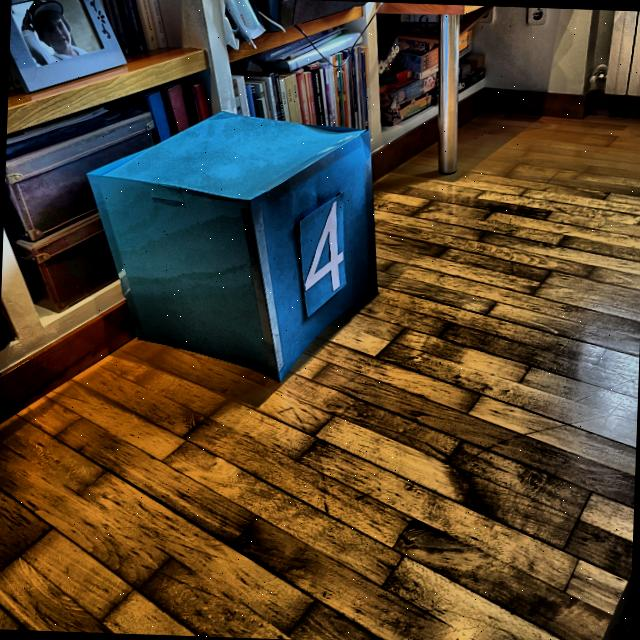blue box: (75, 102, 392, 390)
four: (302, 203, 348, 296)
